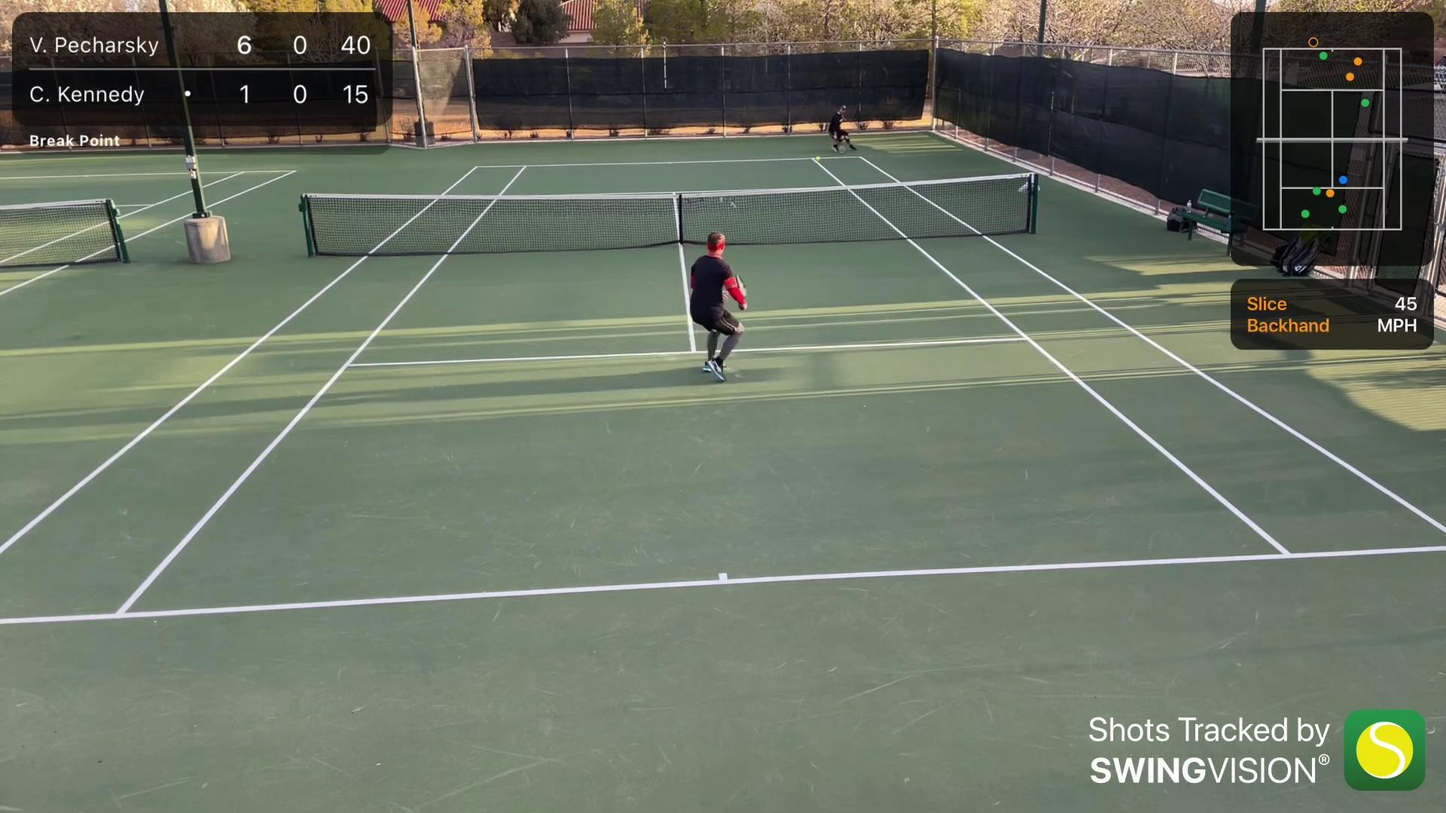ball: (815, 155, 822, 162)
